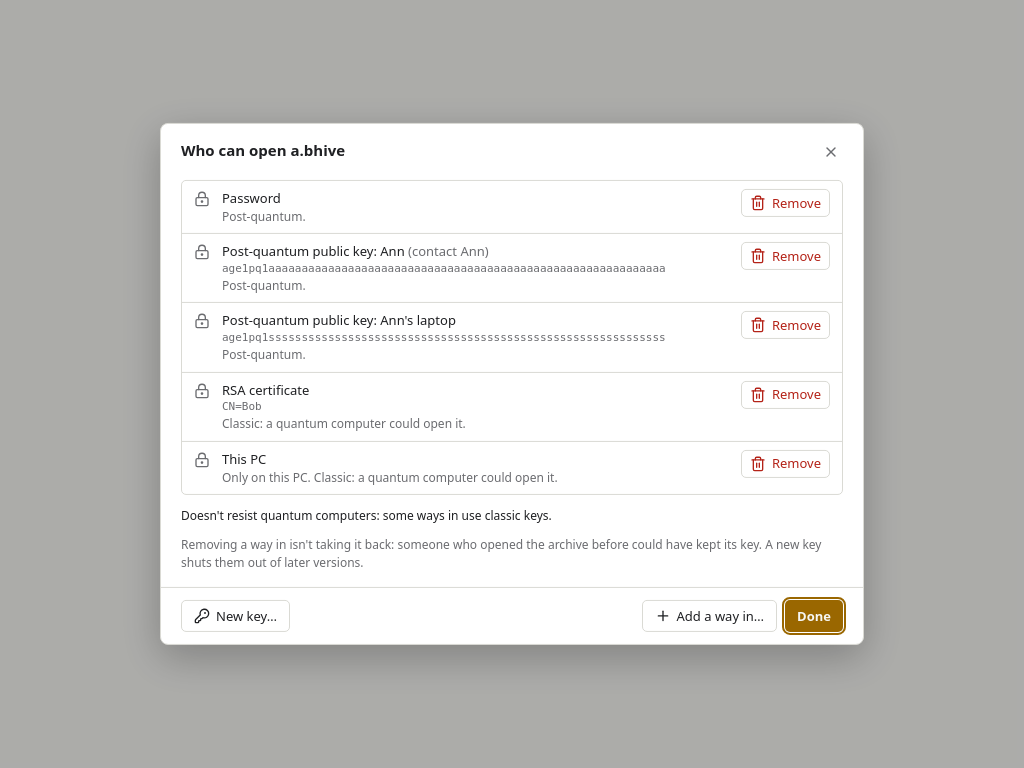
Test: who can open an encrypted .bhive (docs/M14.md §3, §8) › warns when a password joins someone else's key (decision 12)
Click the button "Add a way in…".
click(709, 616)  # box [642,600,777,632]
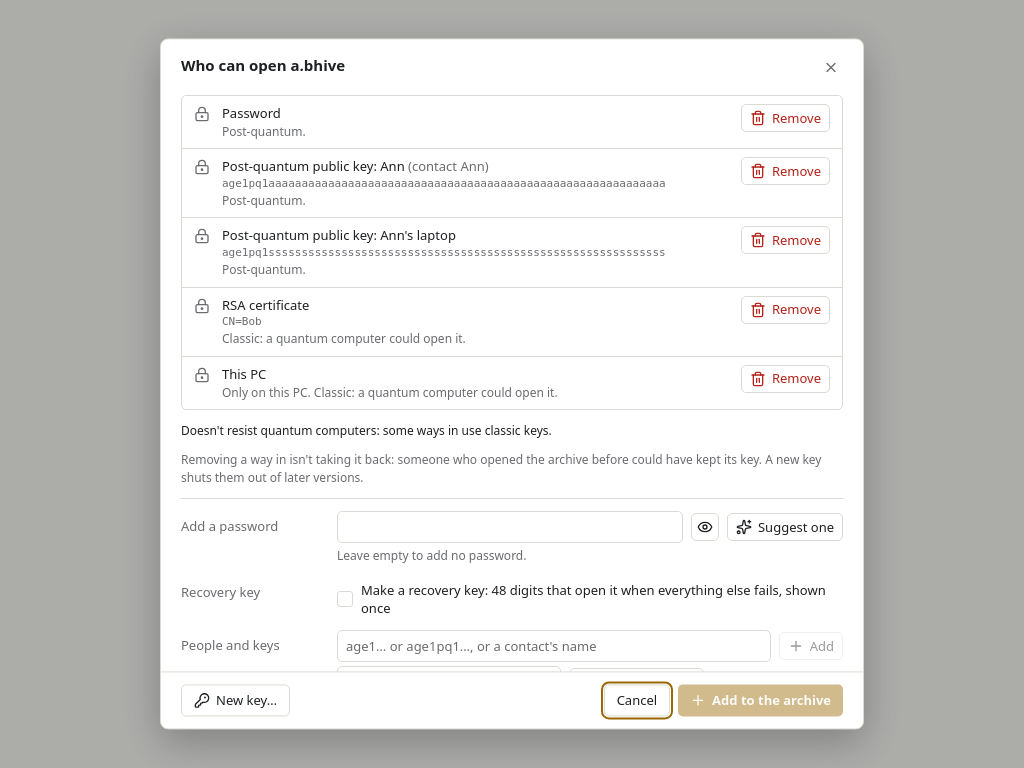
Type "another one" into the password field labelled "Add a password".
click(510, 528); type("another one")  # box [337,512,683,544]
(page scrolled)
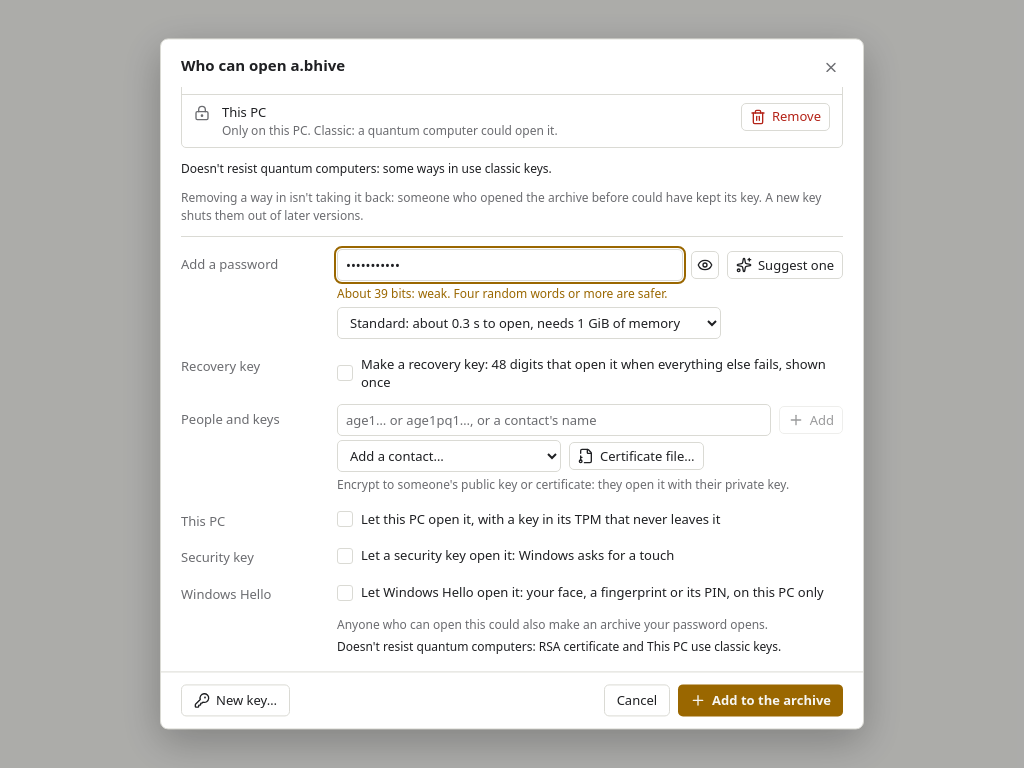
Expected: the text "could also make an archive your password opens" is shown, [337,617,768,634]
